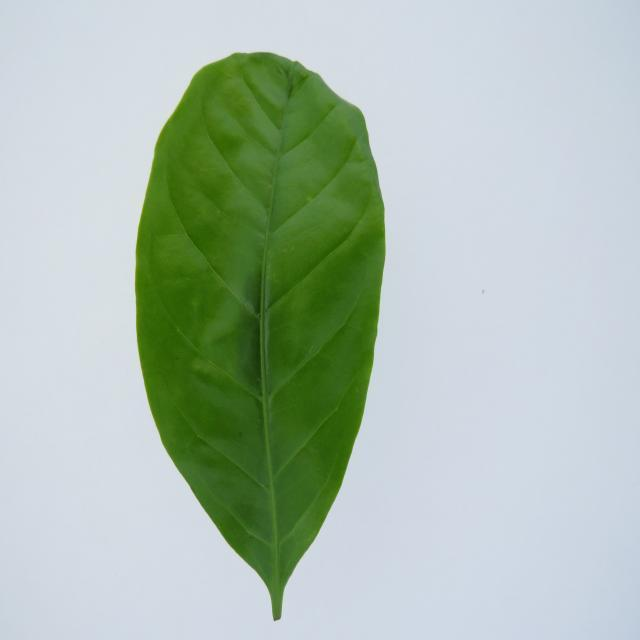DeficienciaNutricional-Boro: (135, 53, 385, 620)
